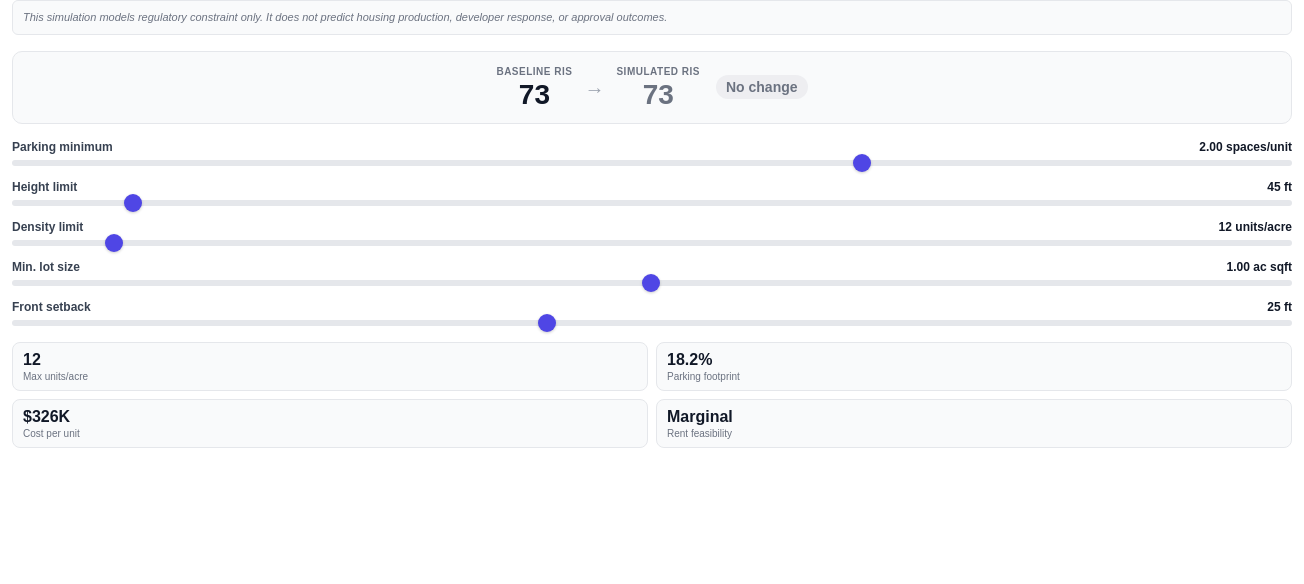
WhatIfPanel › shows reset button only when sliders have changed
Check: the text "Reset to baseline values" is not shown
// Change a slider
Step 1. Set the slider named "Height limit slider" to "200" → point(1003, 202), box [12,200,1292,206]
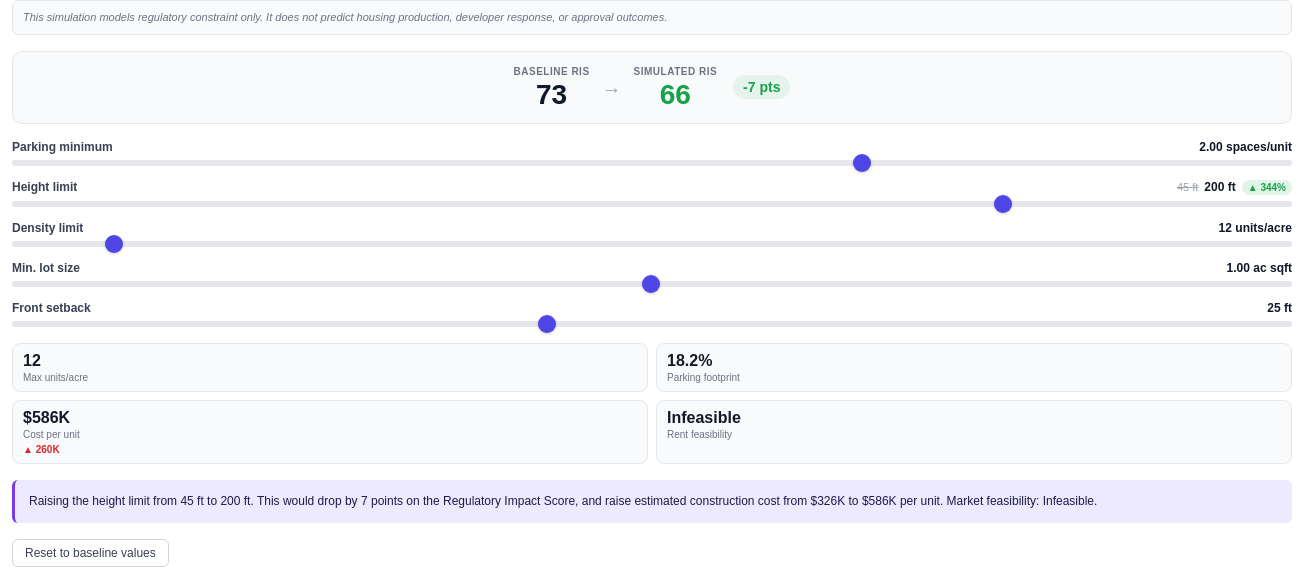
Check: the button "Reset to baseline values" is shown, box [12,539,169,567]
